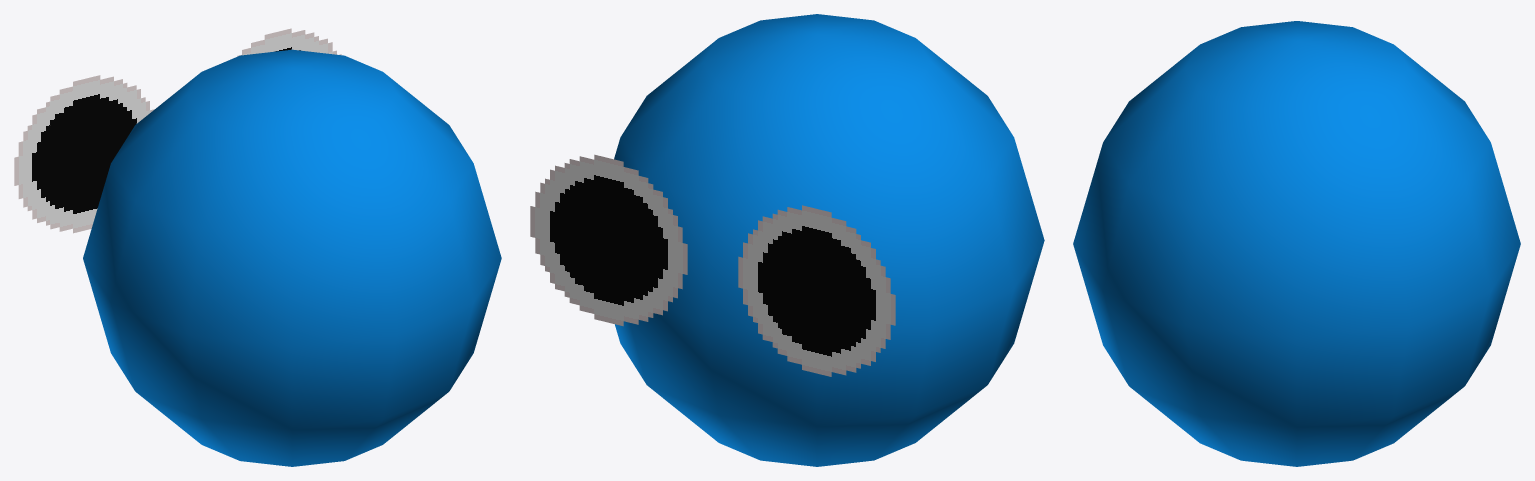
The model's file is Fire Ball.fbx.
3 renders of one model, left to right at view 1: azimuth 30°, elevation 25°; view 2: azimuth 150°, elevation 25°; view 3: azimuth 270°, elevation 25°, orthographic. The views are drawn at different scales.
Parts seen in each view (by area): view 1: Sphere.008, Plane.008, Plane.007; view 2: Sphere.008, Plane.007, Plane.008; view 3: Sphere.008.
Boxes of the visible parts, box(x1,y1,x2,y2) form: Sphere.008: box(83, 49, 501, 466); Plane.008: box(14, 75, 154, 233); Plane.007: box(237, 28, 341, 56); Sphere.008: box(614, 14, 1044, 466); Plane.007: box(530, 154, 687, 326); Plane.008: box(738, 205, 895, 376); Sphere.008: box(1073, 21, 1520, 466).
Bounding box in the file's own units: 200 × 200 × 200.
